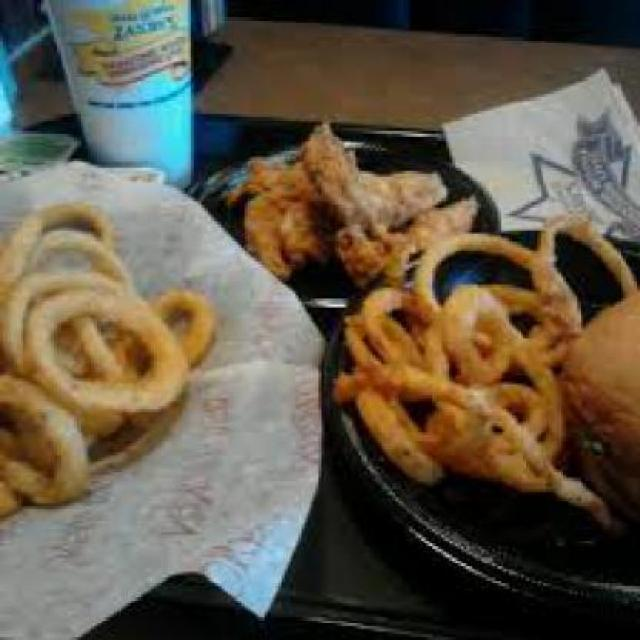chicken wings: (219, 111, 478, 275)
hamburger: (568, 273, 638, 507)
onion rings: (3, 188, 560, 509)
